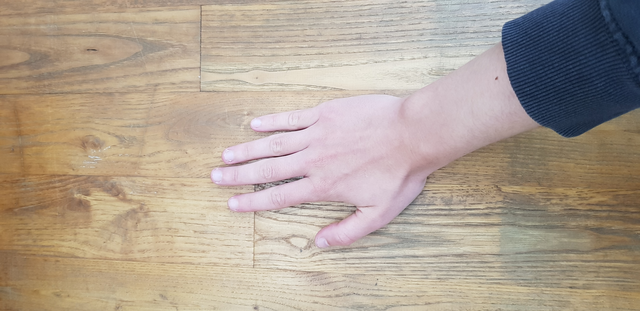Paper: (182, 84, 448, 252)
